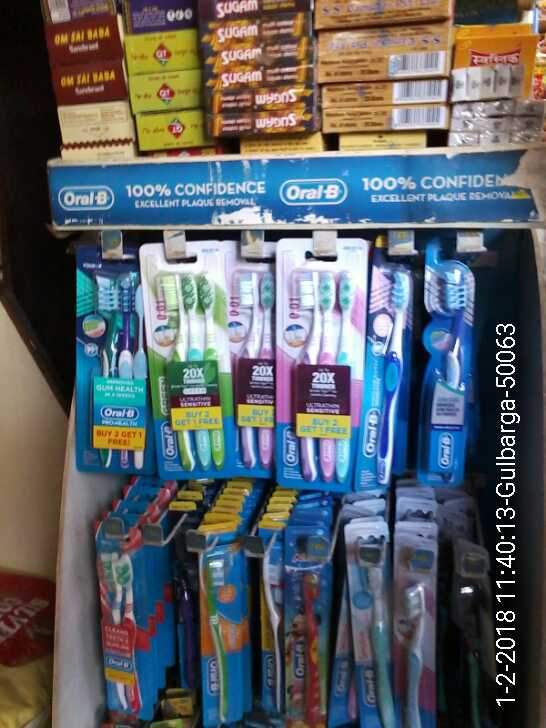oralb: (147, 244, 236, 481), (71, 243, 154, 483), (284, 250, 365, 492), (84, 513, 158, 719), (223, 254, 284, 478), (424, 243, 476, 490), (187, 517, 242, 728), (280, 522, 333, 728), (364, 249, 409, 490), (346, 520, 396, 728), (395, 516, 441, 728), (243, 524, 287, 724)
